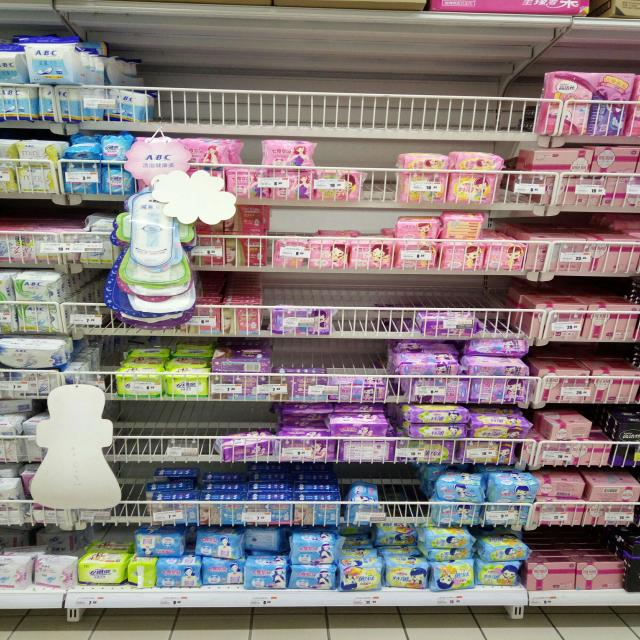void: (157, 49, 536, 129), (119, 403, 208, 457), (339, 273, 408, 338), (381, 464, 433, 521), (482, 273, 526, 333), (104, 463, 145, 525), (363, 140, 397, 198)
